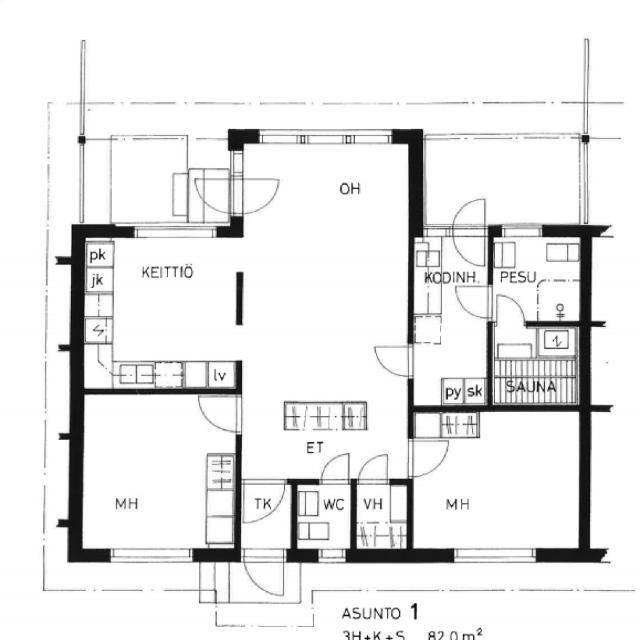door: (432, 262, 492, 367), (294, 467, 354, 557), (355, 467, 409, 552), (448, 192, 492, 270), (239, 546, 291, 602), (188, 164, 239, 221), (239, 476, 290, 527), (229, 169, 284, 215), (366, 337, 420, 382), (401, 432, 452, 479), (193, 391, 245, 433), (451, 279, 498, 322), (490, 289, 531, 328), (353, 450, 394, 488), (316, 450, 355, 487)
window: (249, 124, 402, 150), (102, 542, 202, 569), (446, 541, 540, 569), (128, 221, 224, 241), (73, 141, 91, 226), (493, 219, 549, 241), (311, 545, 351, 567), (421, 222, 454, 240), (356, 586, 379, 593)
zone: (238, 131, 414, 446), (408, 411, 588, 556), (78, 390, 235, 556), (83, 234, 239, 388), (408, 231, 491, 408), (489, 232, 583, 323), (489, 324, 583, 406), (293, 481, 353, 556), (356, 482, 411, 554)
